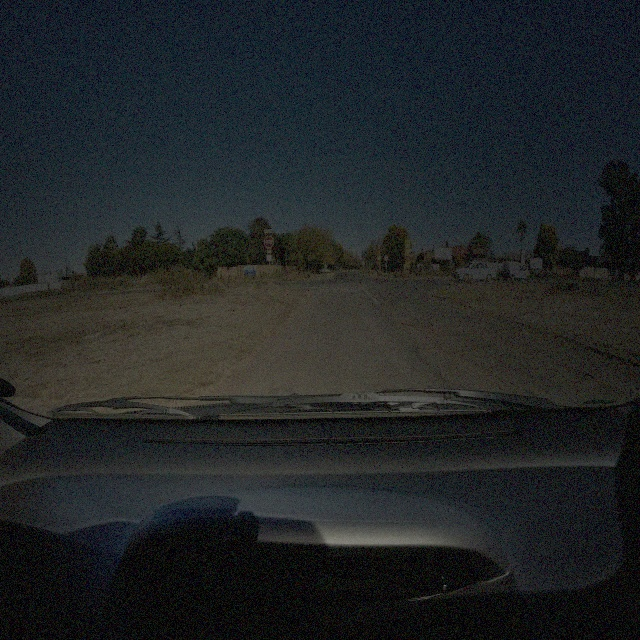pothole: (596, 381, 622, 399), (571, 368, 596, 384), (406, 320, 434, 330)
